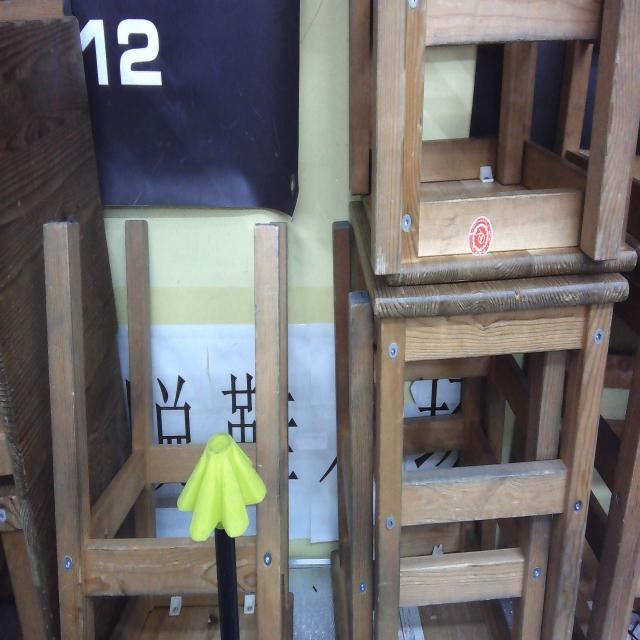Yellow-Stake-Head: (177, 432, 266, 542)
